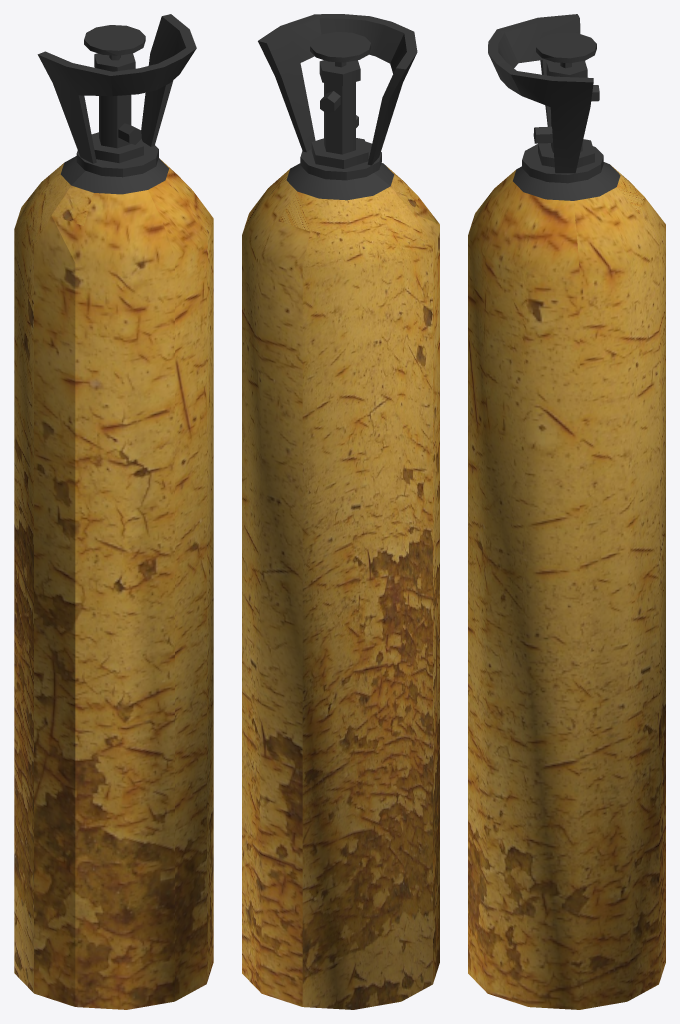
The model's file is BALON.fbx.
3 renders of one model, left to right at view 1: azimuth 30°, elevation 25°; view 2: azimuth 150°, elevation 25°; view 3: azimuth 270°, elevation 25°, orthographic.
Parts seen in each view (by area): view 1: BALOON; view 2: BALOON; view 3: BALOON.
Part boxes in pixels (<box>): BALOON: <box>14,14,213,1009</box>; BALOON: <box>242,14,439,1009</box>; BALOON: <box>468,14,665,1009</box>.
Bounding box in the file's own units: 66.22 × 341 × 66.22.
Materials: 2 (1 with a texture image).
